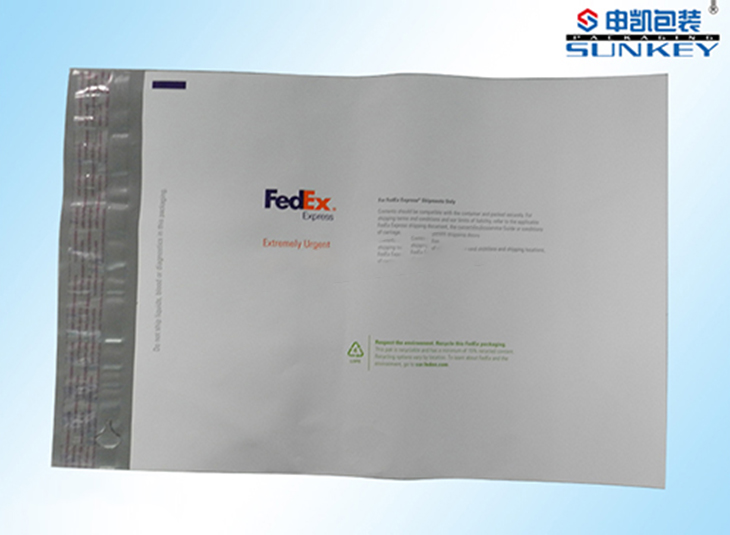塑料袋: (51, 62, 673, 487)
